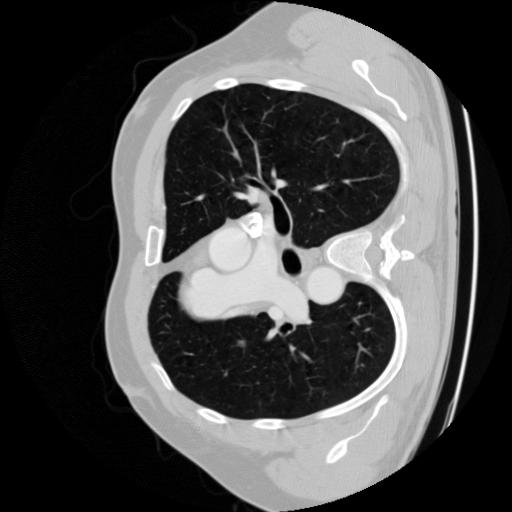nodule: (236, 337, 248, 349)
